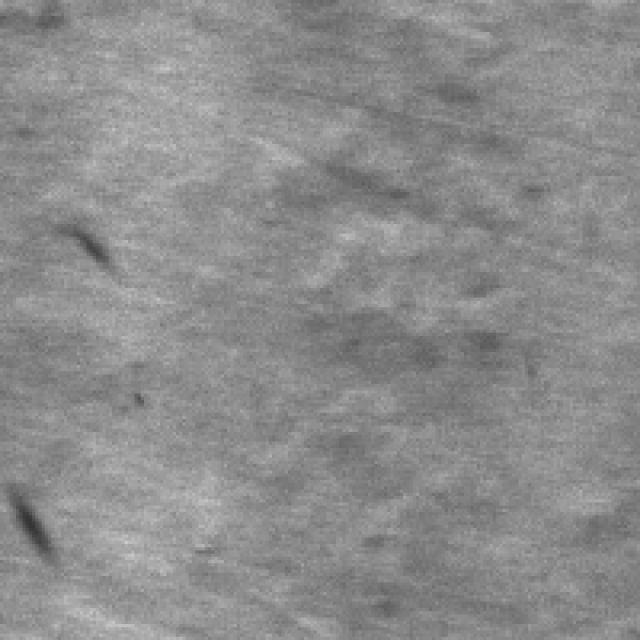rolled-in_scale: (339, 147, 560, 362)
